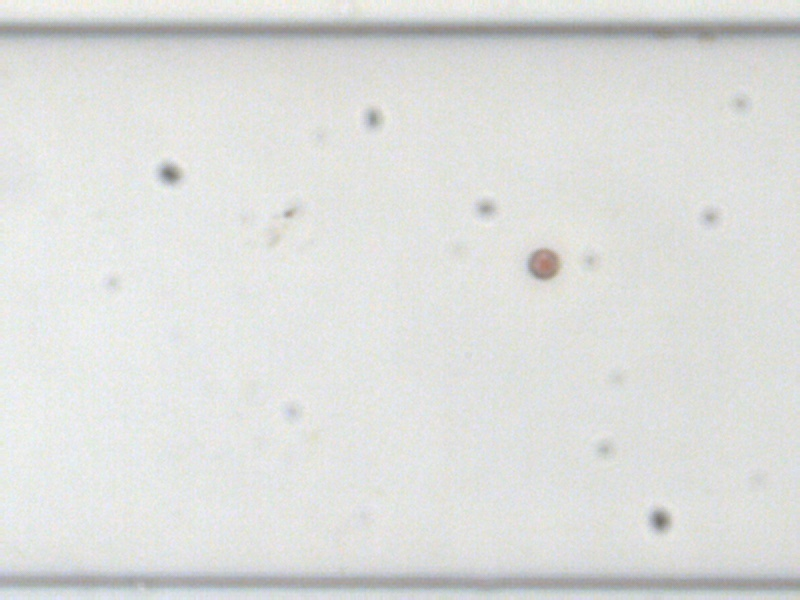Porphyridium: (525, 247, 559, 281)
